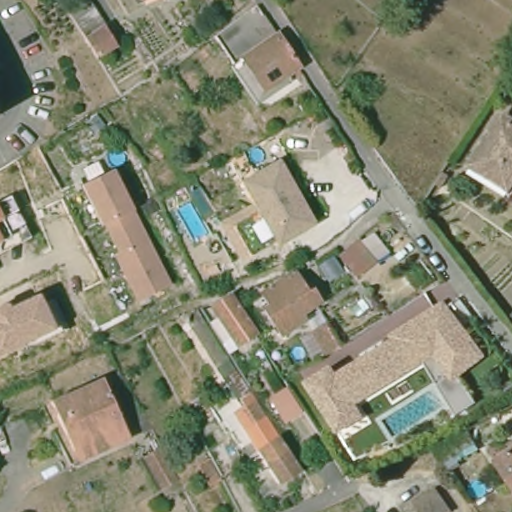pool: (379, 386, 448, 441), (175, 201, 211, 245), (241, 138, 269, 169), (286, 338, 310, 367), (468, 473, 492, 501), (99, 147, 132, 167)
